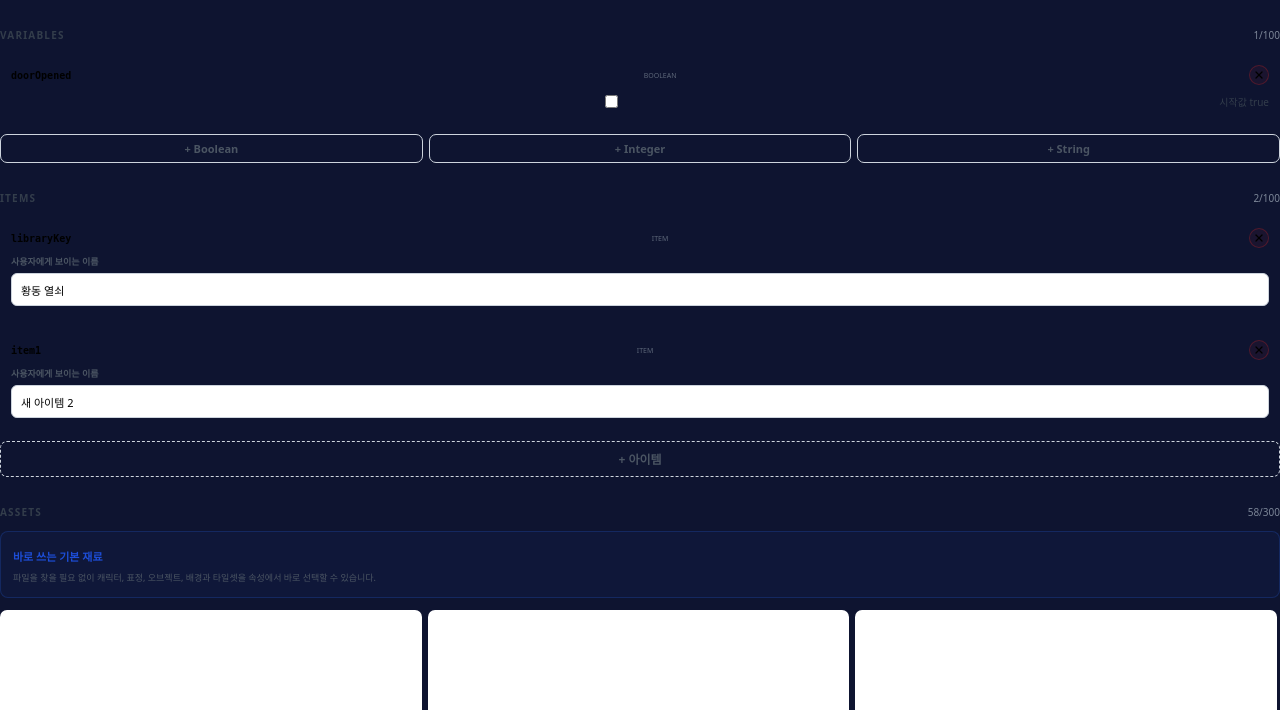
ProjectDataPanel — 아이템 삭제(S15P21A604-565) › 사용되지 않는 아이템은 삭제 버튼 → 확인 카드 → 삭제 확정까지 이어진다
(page scrolled)
What coordinates should you click on to do the following:
click the button named "item1 삭제"
I would click on:
 (1259, 350)
Its box is [1249, 340, 1269, 360].
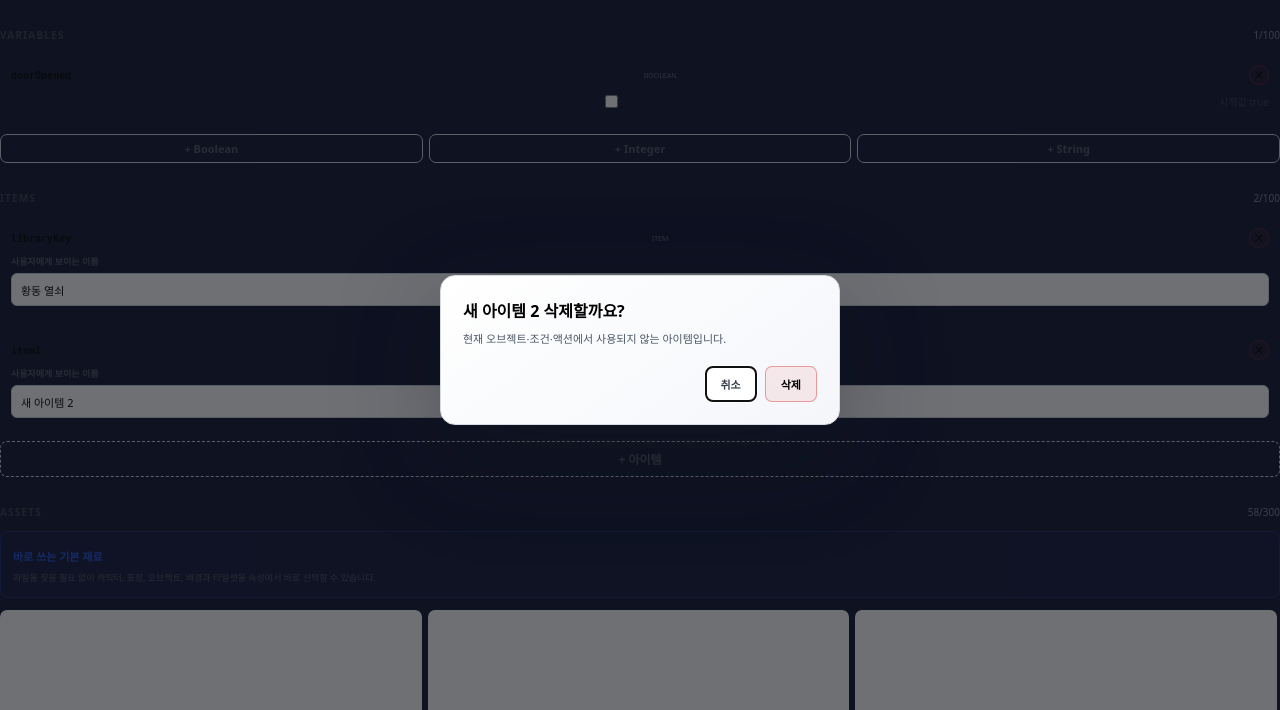
Result: the text "현재 오브젝트·조건·액션에서 사용되지 않는 아이템입니다." is shown at [463, 331, 726, 346]
What coordinates should you click on to do the following:
click the button "삭제"
I would click on:
 (791, 384)
Its box is [765, 366, 817, 402].
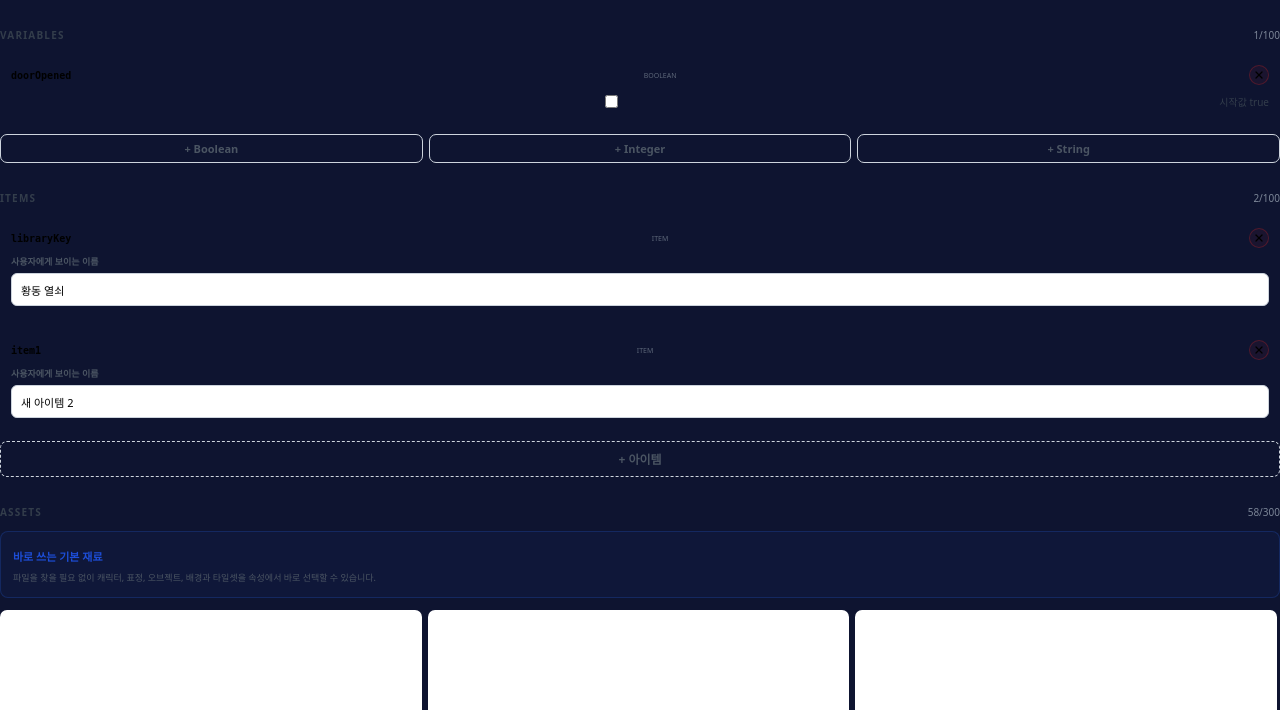
Result: the dialog is gone
